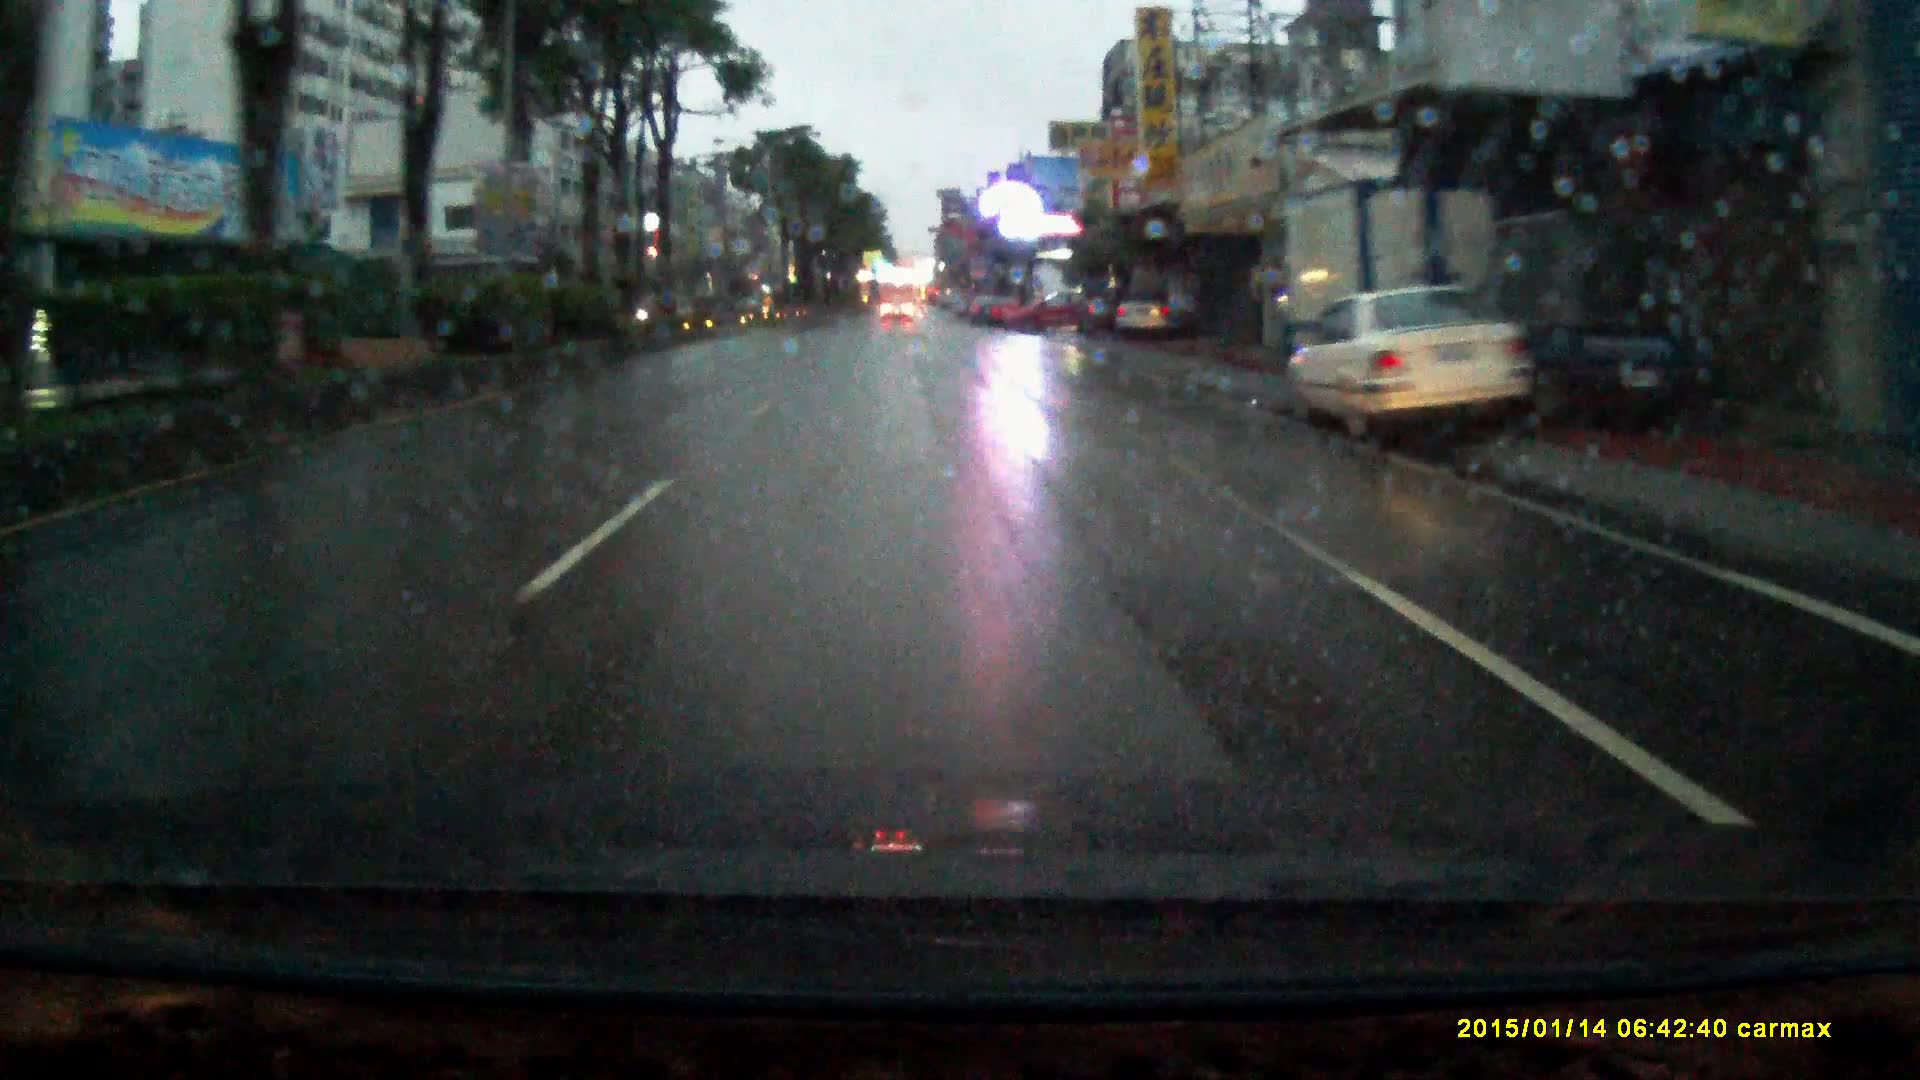vehicle: (1262, 156, 1553, 400), (1532, 211, 1768, 433), (1275, 285, 1552, 443), (1002, 290, 1095, 338), (1100, 291, 1174, 342), (881, 298, 913, 328)
